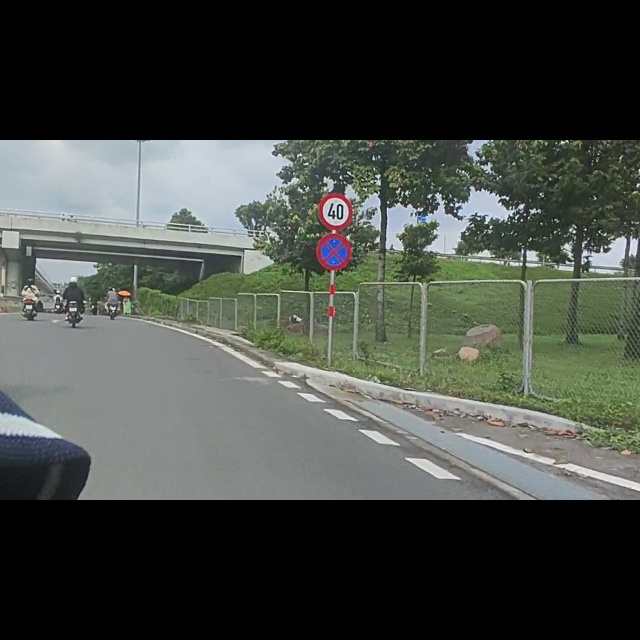bien_cam: (318, 92, 354, 162), (316, 167, 351, 233)
